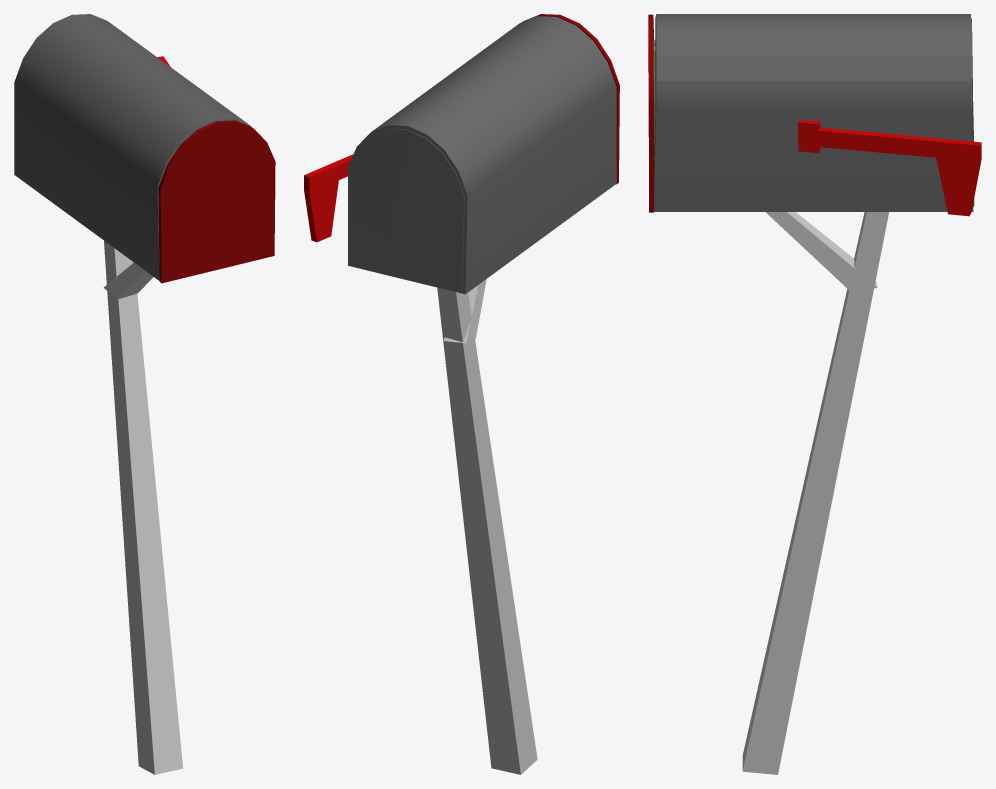
File: MailBox_.fbx
3 views of the same model, side by side, from view 1: azimuth 30°, elevation 25°; view 2: azimuth 150°, elevation 25°; view 3: azimuth 270°, elevation 25° (orthographic). The views are drawn at different scales.
Visible parts, largest first — view 1: letter1, Lid; view 2: letter1, Flag, Lid; view 3: letter1, Flag, Lid.
Part boxes in pixels (<box>): letter1: <box>14,14,251,774</box>; Lid: <box>158,120,275,283</box>; letter1: <box>348,16,616,774</box>; Flag: <box>304,154,353,242</box>; Lid: <box>523,14,619,184</box>; letter1: <box>653,14,974,774</box>; Flag: <box>798,120,981,216</box>; Lid: <box>648,14,654,212</box>.
Bounding box in the file's own units: 5.41 × 23.05 × 9.28.
